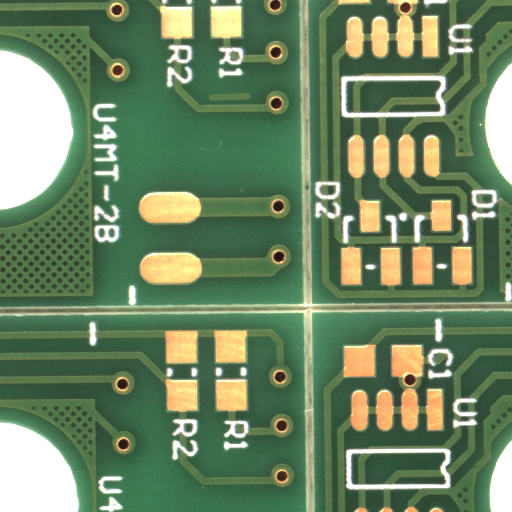Spurious_copper: (228, 96, 273, 106)
